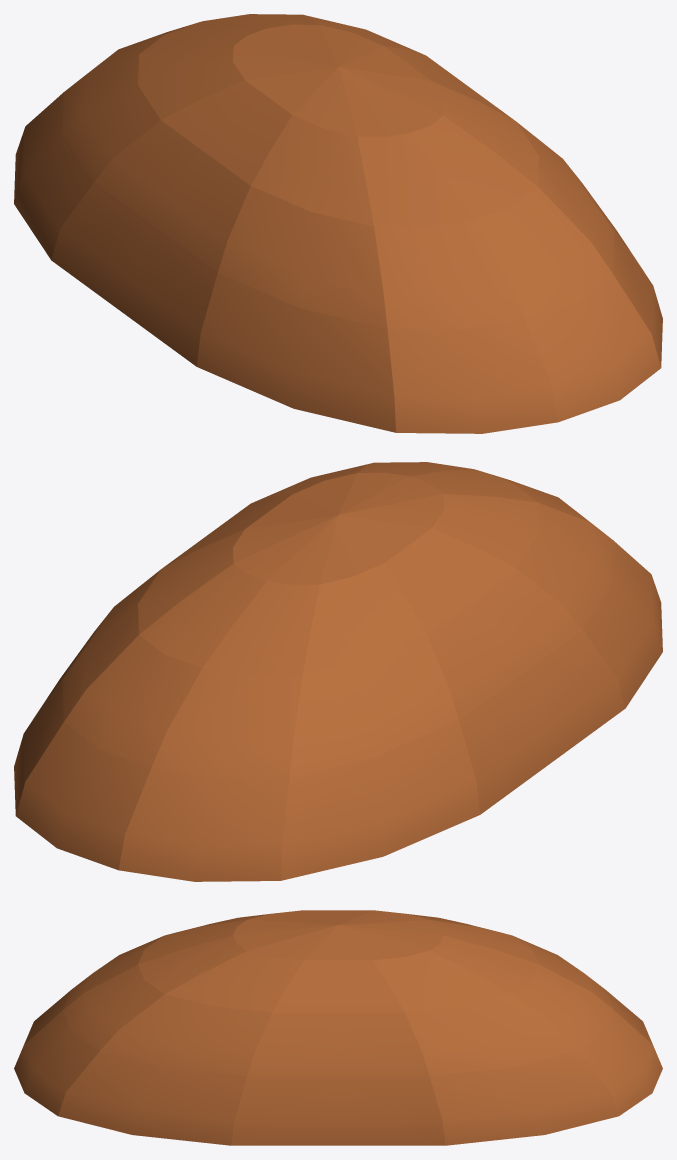
The model's file is ComputerMouse.fbx.
3 views of the same model, one above another, from view 1: azimuth 30°, elevation 25°; view 2: azimuth 150°, elevation 25°; view 3: azimuth 270°, elevation 25° (orthographic). The views are drawn at different scales.
Parts seen in each view (by area): view 1: ComputerMouse; view 2: ComputerMouse; view 3: ComputerMouse.
Part boxes in pixels (x1,y1,x2,y2): ComputerMouse: (14,14,662,433); ComputerMouse: (14,462,662,881); ComputerMouse: (14,910,662,1145).
Bounding box in the file's own units: 0.5234 × 0.2266 × 0.9295.
